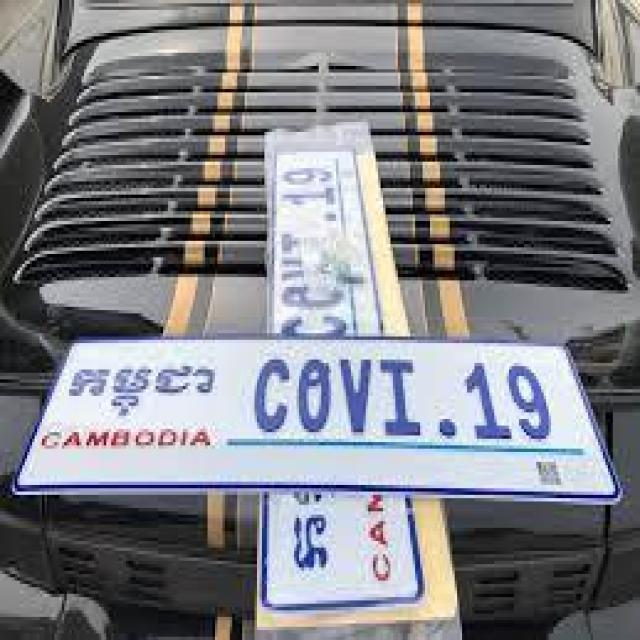Cambodia: (69, 363, 215, 416)
